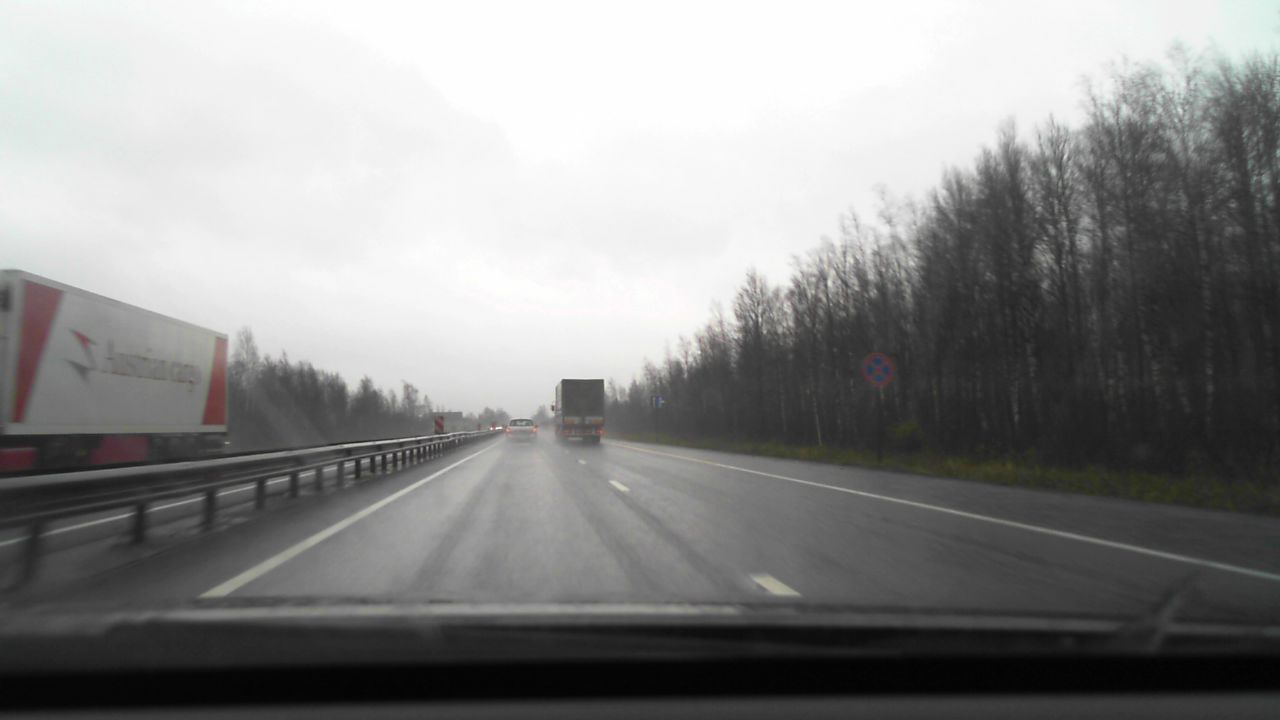No Parking: (861, 352, 894, 386)
